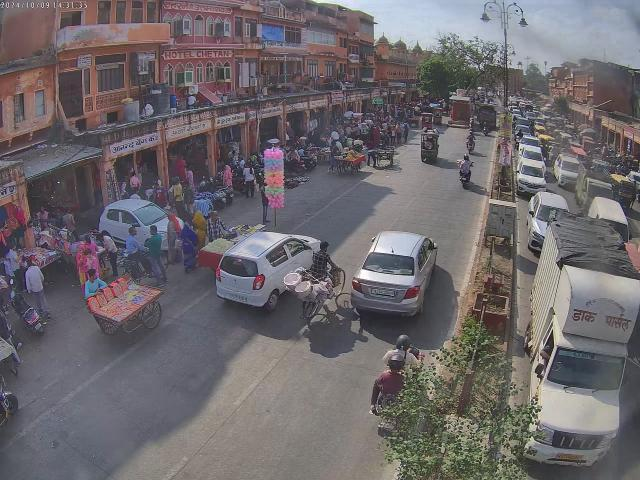auto: (610, 176, 640, 210), (419, 130, 440, 164)
bicycle-rider: (296, 240, 344, 320)
car: (215, 230, 316, 316), (348, 231, 439, 320), (527, 190, 569, 247), (514, 155, 548, 196), (554, 154, 584, 187)
helmet: (388, 354, 405, 370), (395, 335, 411, 351), (464, 156, 469, 160), (470, 132, 473, 134)
license_plate: (372, 288, 396, 298), (558, 454, 582, 462), (229, 292, 247, 302)
lorry: (516, 222, 640, 464)
motorbike-rider: (456, 156, 474, 189), (466, 132, 476, 152)
person: (146, 226, 170, 288), (26, 257, 50, 318), (98, 232, 119, 277), (180, 220, 198, 270), (81, 268, 108, 300), (204, 209, 224, 240), (170, 176, 183, 218), (128, 170, 142, 192)
scooty: (10, 279, 42, 335), (198, 176, 234, 204)
scooty-rider: (373, 334, 426, 409)
vendor: (91, 284, 164, 340), (328, 150, 364, 176)
